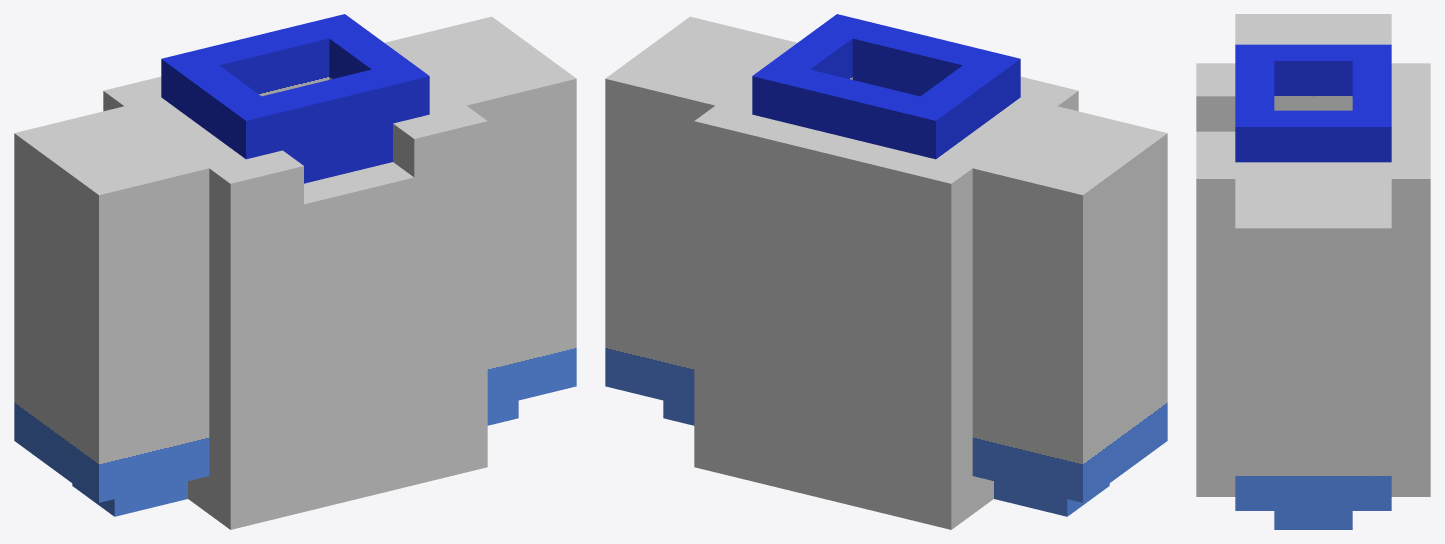
Rendered from Matrix_17.fbx.
3 renders of one model, left to right at view 1: azimuth 30°, elevation 25°; view 2: azimuth 150°, elevation 25°; view 3: azimuth 270°, elevation 25°, orthographic. The views are drawn at different scales.
Parts seen in each view (by area): view 1: Matrix_17; view 2: Matrix_17; view 3: Matrix_17.
Part boxes in pixels (box(x1,y1,x2,y2)): Matrix_17: box(14, 14, 576, 529); Matrix_17: box(605, 14, 1167, 529); Matrix_17: box(1196, 14, 1430, 529).
Size of the model in its own units: 13 by 10 by 6.
Materials: 1 (1 with a texture image).
